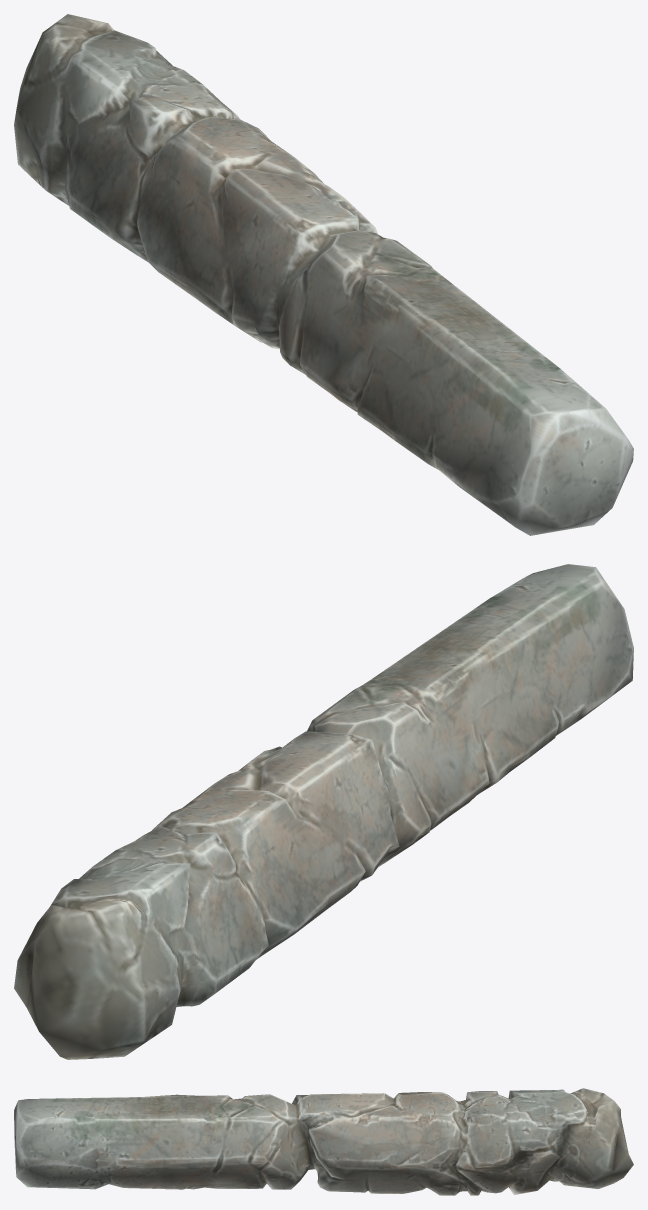
Rendered from VD_Basalt_Single_A.fbx.
The picture shows the model from 3 angles, top to bottom: view 1: azimuth 30°, elevation 25°; view 2: azimuth 150°, elevation 25°; view 3: azimuth 270°, elevation 25°; orthographic projection. The views are drawn at different scales.
Parts seen in each view (by area): view 1: VD_Basalt_Single_A; view 2: VD_Basalt_Single_A; view 3: VD_Basalt_Single_A.
Boxes of the visible parts, x1,y1,x2,y2 form: VD_Basalt_Single_A: (14,14,633,535); VD_Basalt_Single_A: (14,564,633,1059); VD_Basalt_Single_A: (14,1088,633,1195).
Bounding box in the file's own units: 104 × 101 × 622.
